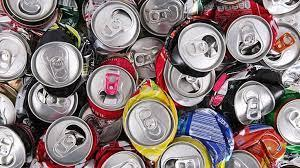metal: (29, 27, 94, 95), (213, 61, 281, 125), (161, 109, 232, 168), (121, 80, 176, 155), (218, 0, 271, 63), (168, 17, 224, 75), (85, 56, 134, 120), (159, 52, 215, 108), (14, 80, 80, 126), (36, 118, 96, 168), (82, 1, 137, 53), (232, 121, 287, 168), (0, 0, 77, 30), (0, 122, 41, 168), (0, 28, 32, 84), (127, 33, 166, 78), (273, 90, 300, 155), (135, 0, 182, 36), (268, 20, 300, 69), (96, 141, 146, 168)
